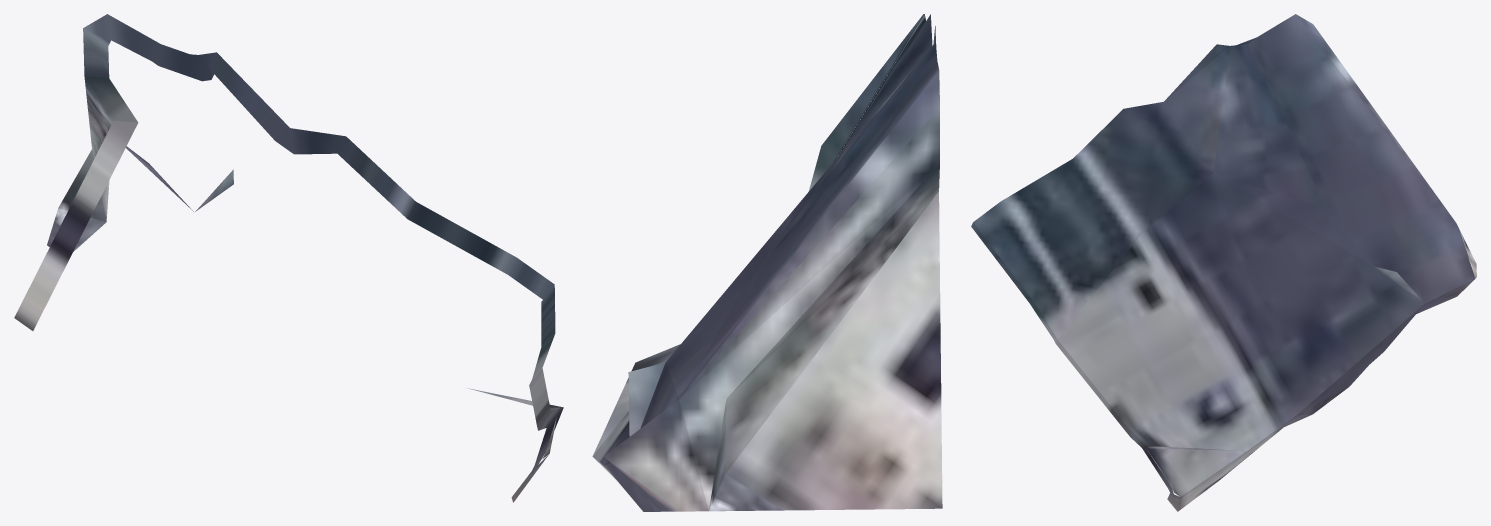
3 renders of one model, left to right at view 1: azimuth 30°, elevation 25°; view 2: azimuth 150°, elevation 25°; view 3: azimuth 270°, elevation 25°, orthographic. The views are drawn at different scales.
Bounding box in the file's own units: 9.28 × 10.97 × 13.25.
Materials: 1 (1 with a texture image).
